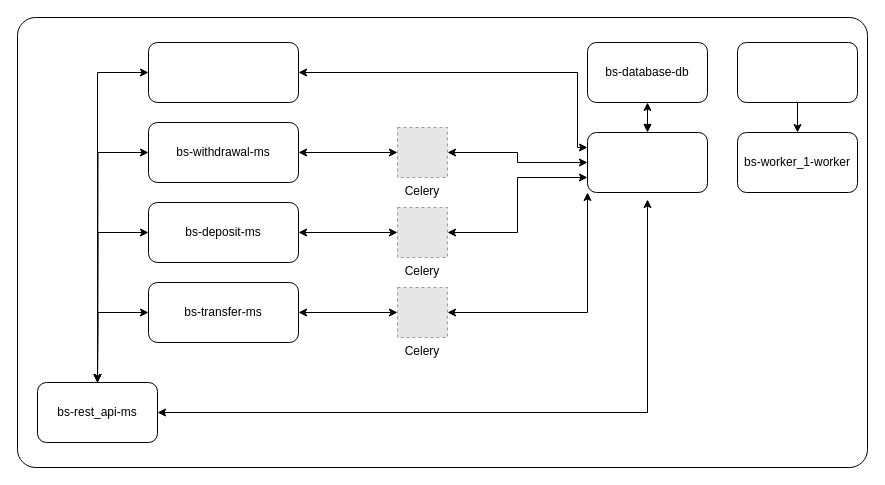
Image size: 885x485. Some labels were removed from this diagram. Grey dashed boxes stand in for pictures. The centre of each missing label's shape, as x and y in pixels:
"bs-authentication-ms" belongs at (223,72).
"bs-db_connector-ms" belongs at (647,162).
"bs-task_broker-bm" belongs at (797,72).
